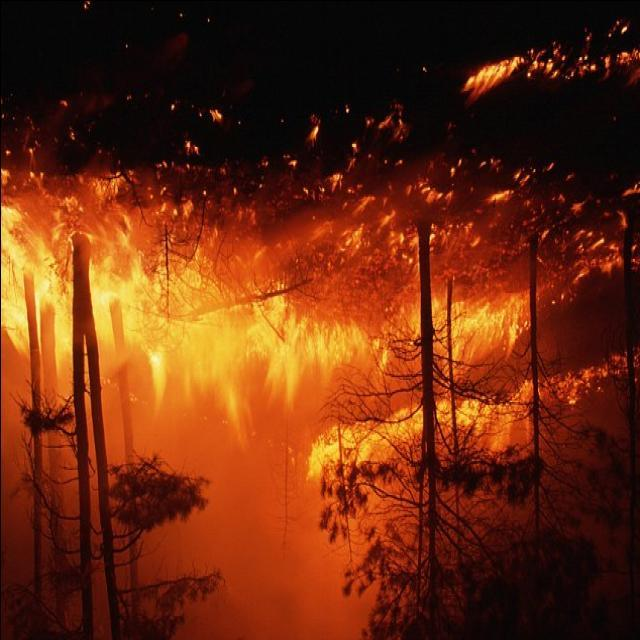Fire: (1, 172, 621, 486)
